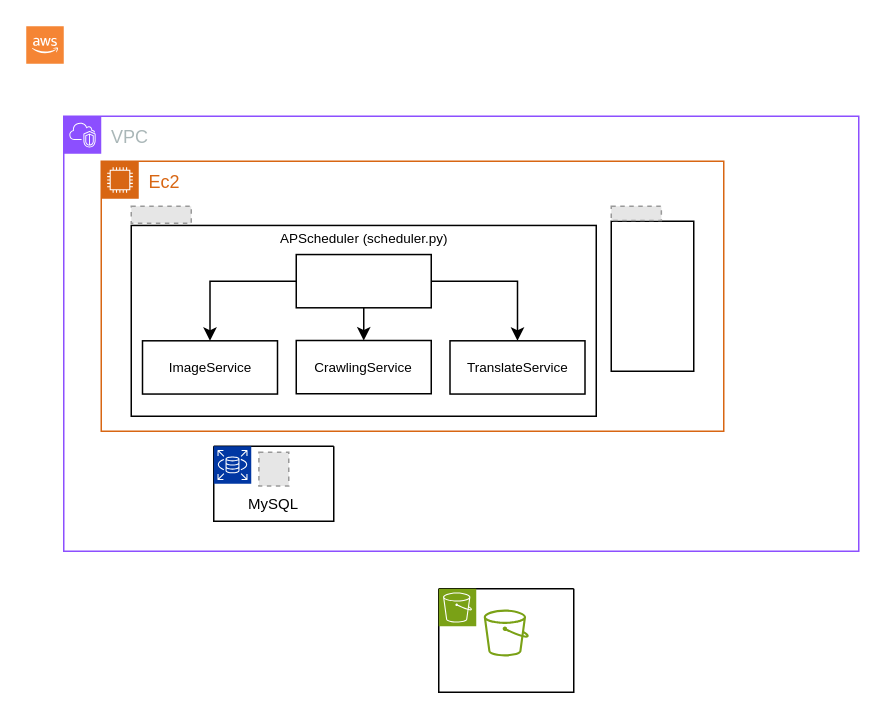
Image size: 885x719. Some labels were removed from this diagram. Grey dashed boxes stand in for pictures. Here are the shapes that lost their labels. From the top down, the centre of each, then its label:
point 363,280: SchedulerService (작업스케줄링)
point 505,632: S3 Bucket
